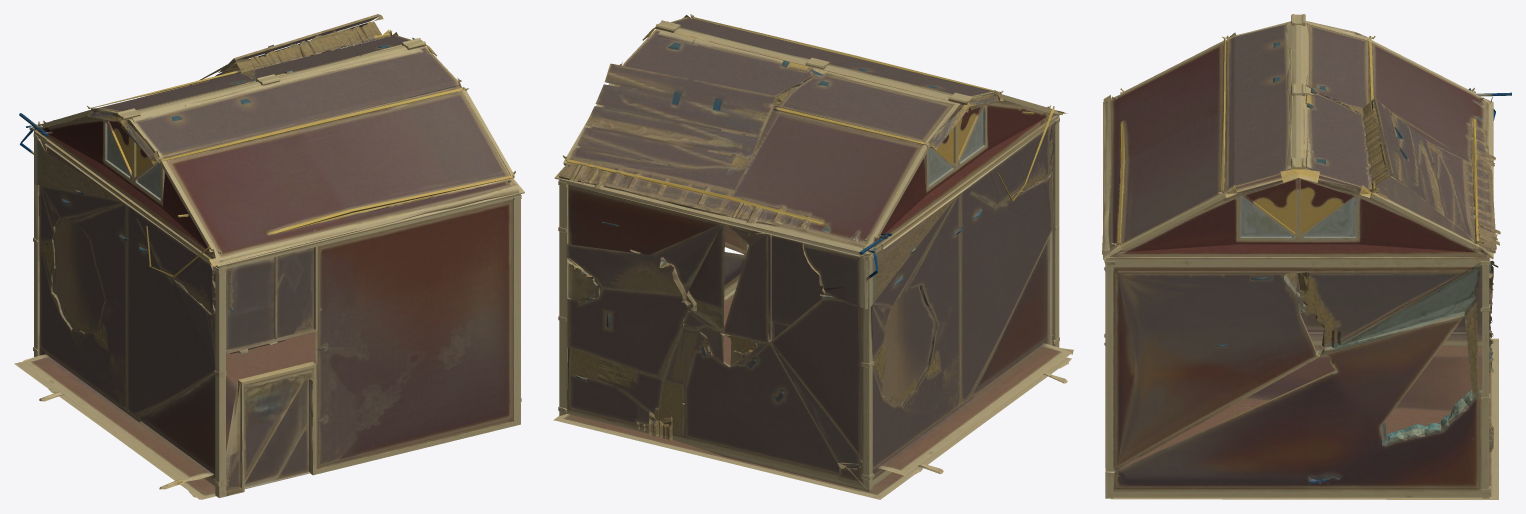
File: warehouse_ruin.glb
3 renders of one model, left to right at view 1: azimuth 30°, elevation 25°; view 2: azimuth 150°, elevation 25°; view 3: azimuth 270°, elevation 25°, orthographic. The views are drawn at different scales.
Visible parts, largest first — view 1: tripo_node_ca99c351-b725-4ee4-933a-b0de01065a07; view 2: tripo_node_ca99c351-b725-4ee4-933a-b0de01065a07; view 3: tripo_node_ca99c351-b725-4ee4-933a-b0de01065a07.
Part boxes in pixels (x1=…): tripo_node_ca99c351-b725-4ee4-933a-b0de01065a07: x1=14, y1=14, x2=524, y2=499; tripo_node_ca99c351-b725-4ee4-933a-b0de01065a07: x1=553, y1=14, x2=1073, y2=499; tripo_node_ca99c351-b725-4ee4-933a-b0de01065a07: x1=1102, y1=14, x2=1511, y2=499.
Size of the model in its own units: 0.9941 by 0.8926 by 0.998.
Materials: 1 (1 with a texture image).
